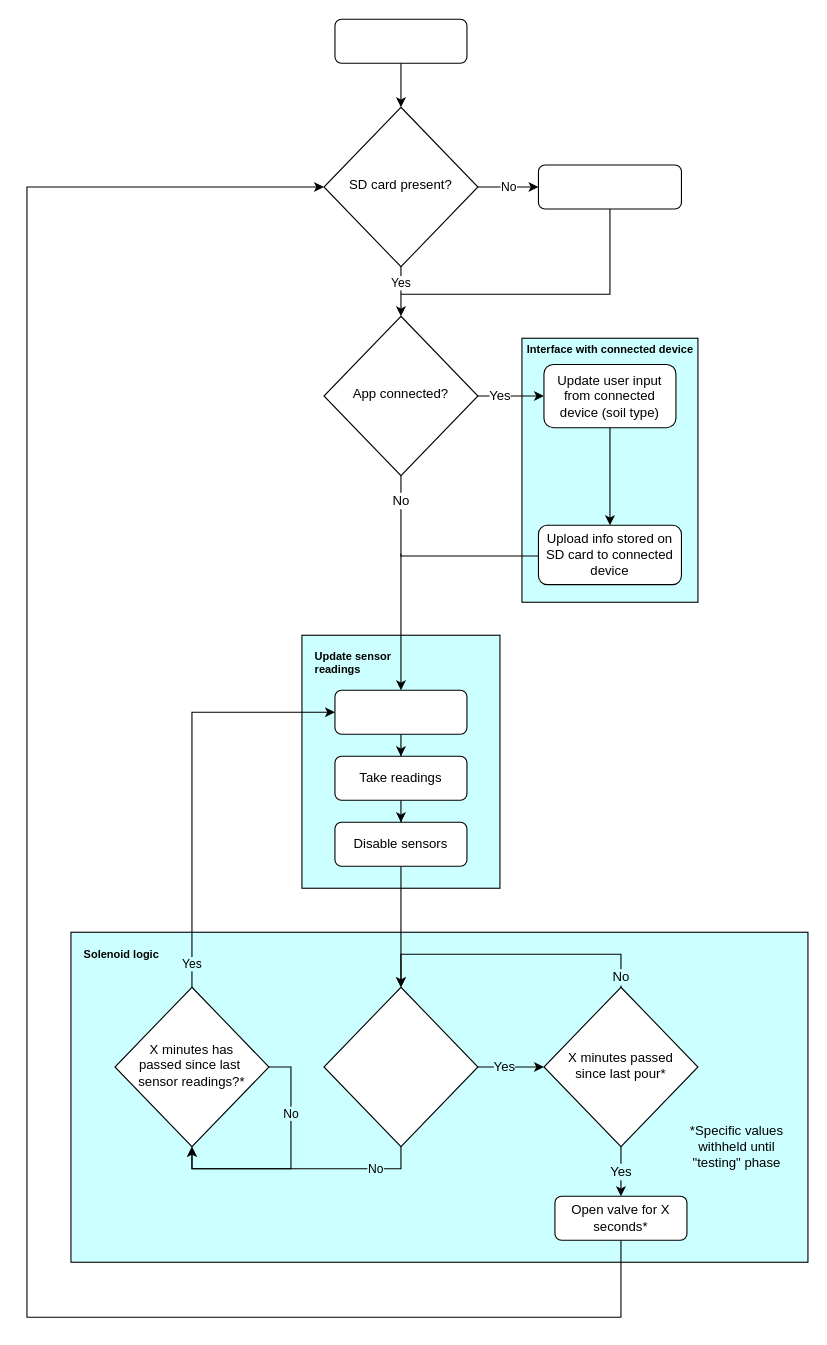
Image size: 827x1345. Some labels were removed from this diagram. The shapes that lost their labels are listed below. From the top down, each one's box as (x1, y1, x2, y2) in pixels, then its label:
(334, 18, 467, 63): Start (power on)
(537, 164, 681, 209): Blink LED
(334, 689, 467, 734): Enable sensors
(323, 986, 478, 1147): Moisture reading < target moisture?
